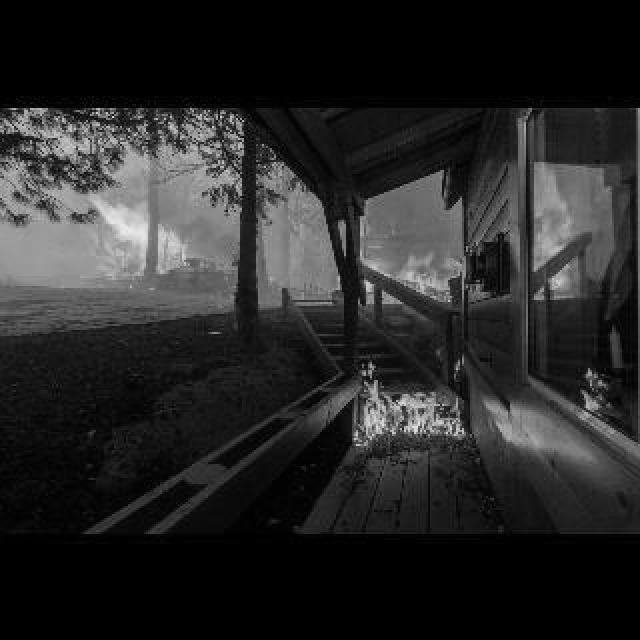Fire: (334, 202, 456, 300), (78, 180, 186, 282), (352, 356, 464, 444)
